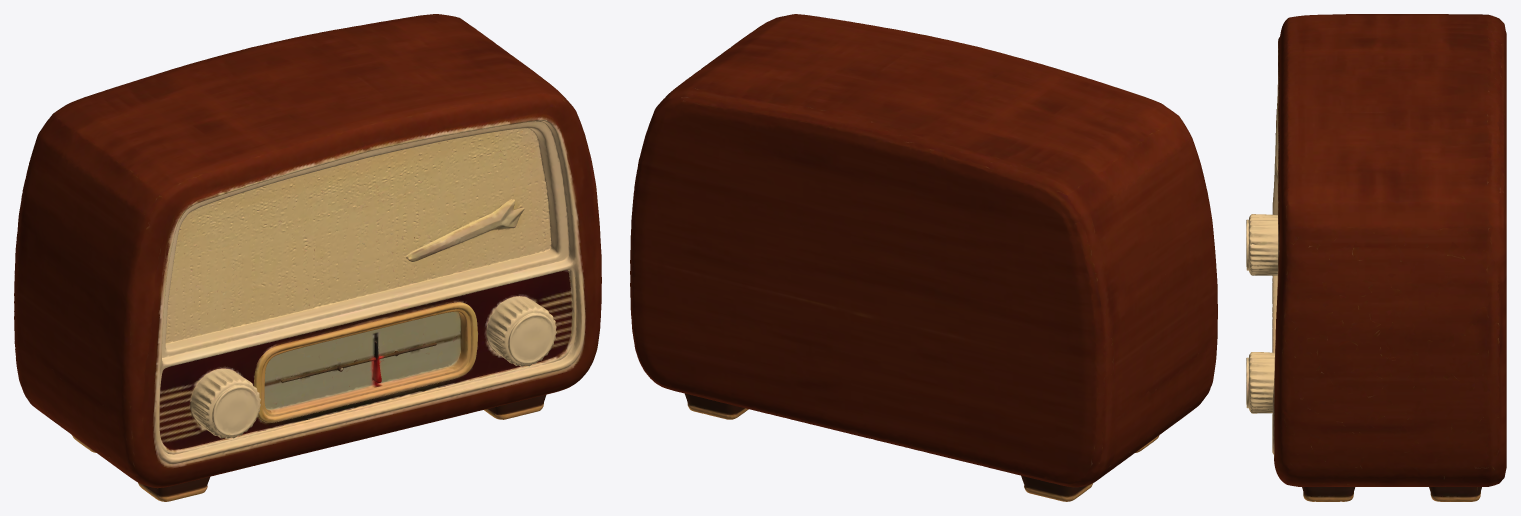
Rendered from radio.glb.
3 renders of one model, left to right at view 1: azimuth 30°, elevation 25°; view 2: azimuth 150°, elevation 25°; view 3: azimuth 270°, elevation 25°, orthographic. The views are drawn at different scales.
Bounding box in the file's own units: 0.9968 × 0.6726 × 0.4913.
1 material, 1 textured.
